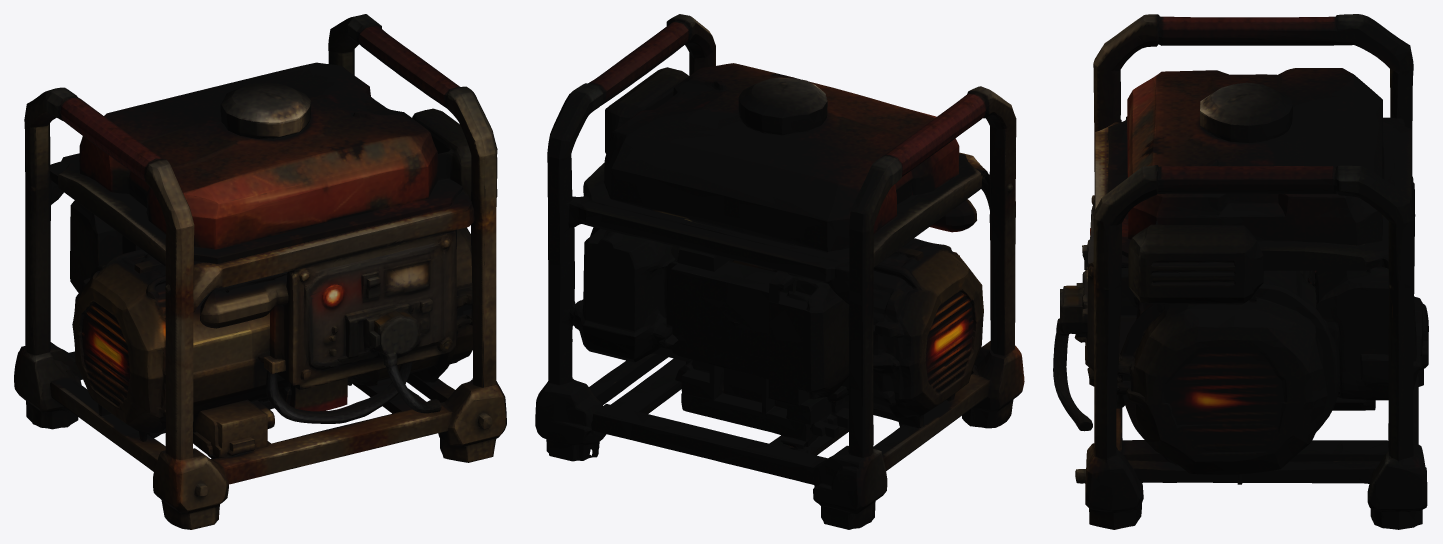
The model's file is sample (4).glb.
3 views of the same model, side by side, from view 1: azimuth 30°, elevation 25°; view 2: azimuth 150°, elevation 25°; view 3: azimuth 270°, elevation 25° (orthographic). The views are drawn at different scales.
Visible parts, largest first — view 1: world; view 2: world; view 3: world.
Boxes of the visible parts, box(x1,y1,x2,y2) form: world: box(14, 14, 506, 529); world: box(535, 14, 1024, 529); world: box(1053, 14, 1428, 529).
Bounding box in the file's own units: 0.996 × 0.9511 × 0.9091.
Materials: 1 (1 with a texture image).
